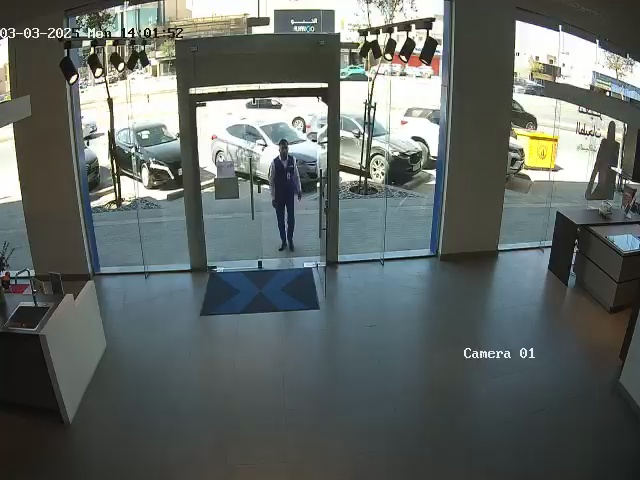employee: (268, 138, 303, 252)
